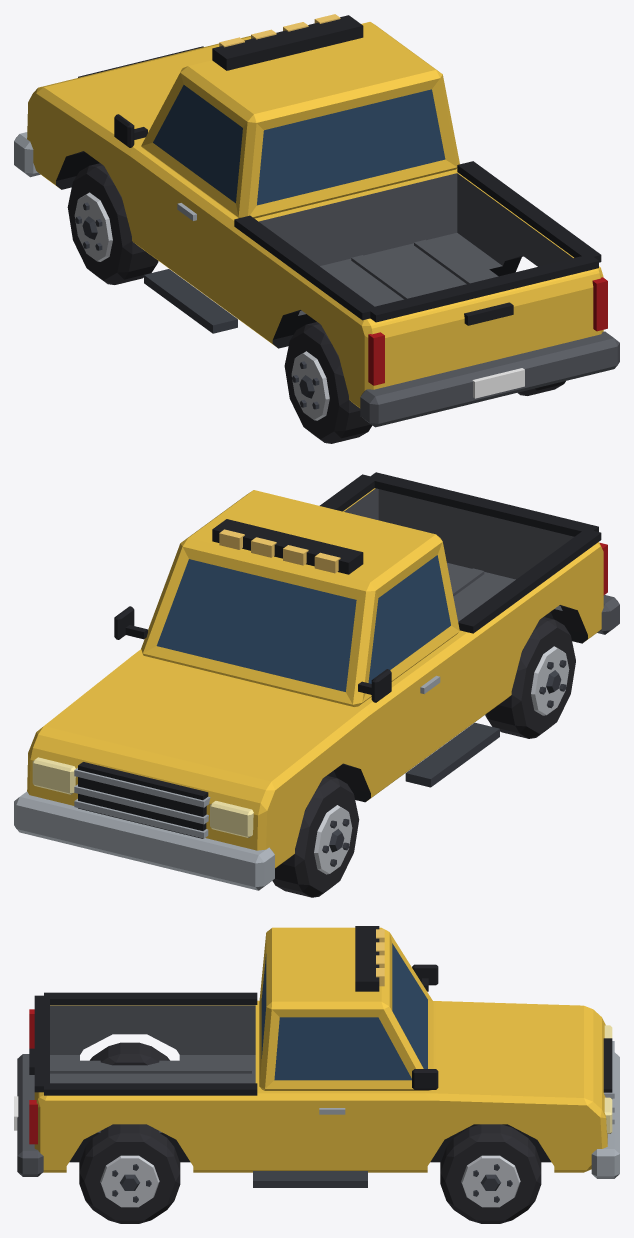
Rendered from Truck_Blue.glb.
3 views of the same model, one above another, from view 1: azimuth 30°, elevation 25°; view 2: azimuth 150°, elevation 25°; view 3: azimuth 270°, elevation 25° (orthographic). The views are drawn at different scales.
Parts seen in each view (by area): view 1: Truck_Blue_Body, Truck_Blue_Wheel_FL, Truck_Blue_Wheel_RL; view 2: Truck_Blue_Body, Truck_Blue_Wheel_RL, Truck_Blue_Wheel_FL; view 3: Truck_Blue_Body, Truck_Blue_Wheel_RR, Truck_Blue_Wheel_FR, Truck_Blue_Wheel_RL.
Part boxes in pixels (bbox=[...]): Truck_Blue_Body: bbox=[14, 14, 619, 427]; Truck_Blue_Wheel_FL: bbox=[67, 163, 158, 284]; Truck_Blue_Wheel_RL: bbox=[284, 322, 372, 443]; Truck_Blue_Body: bbox=[14, 472, 619, 890]; Truck_Blue_Wheel_RL: bbox=[485, 617, 575, 738]; Truck_Blue_Wheel_FL: bbox=[272, 775, 359, 897]; Truck_Blue_Body: bbox=[14, 926, 619, 1187]; Truck_Blue_Wheel_RR: bbox=[79, 1124, 180, 1223]; Truck_Blue_Wheel_FR: bbox=[440, 1124, 541, 1223]; Truck_Blue_Wheel_RL: bbox=[90, 1042, 169, 1065].
Bounding box in the file's own units: 2.52 × 2.28 × 5.54.
1 material, 1 textured.
